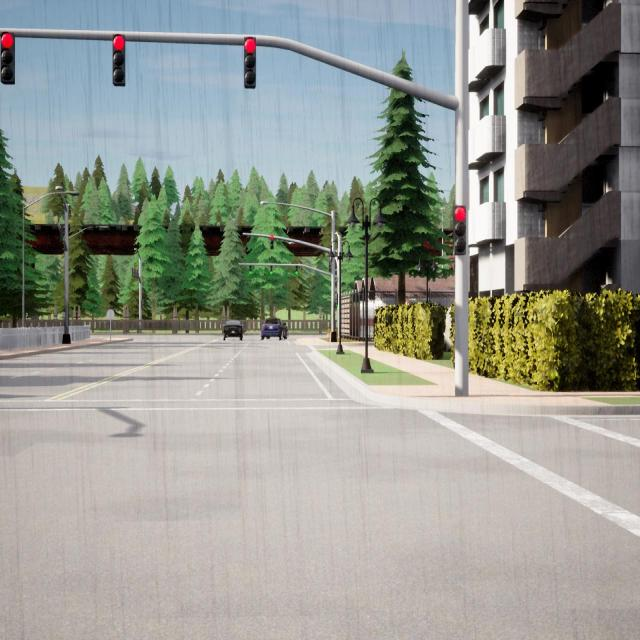Pedestrian: (283, 323, 287, 339)
Traffic_Signs: (107, 310, 114, 319)
Vehicle: (261, 318, 282, 341), (223, 320, 243, 340)
traffic_light: (112, 34, 126, 86), (1, 32, 14, 84), (244, 37, 256, 88), (454, 206, 466, 255), (60, 225, 66, 241), (270, 236, 274, 250), (336, 293, 338, 307), (270, 266, 273, 274), (249, 265, 251, 275), (132, 268, 134, 276), (134, 269, 136, 277), (136, 270, 138, 278), (296, 266, 298, 274), (141, 301, 143, 308)
